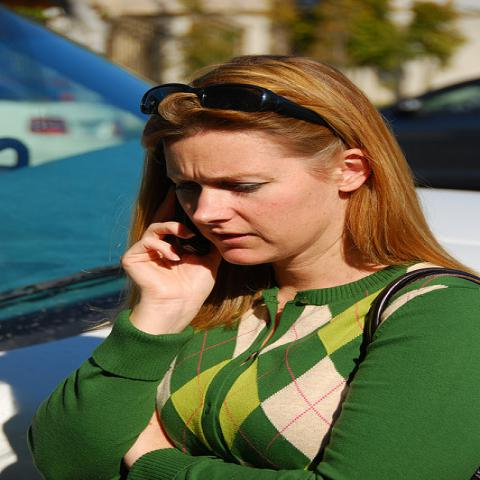car: (0, 7, 165, 470), (372, 76, 480, 193)
